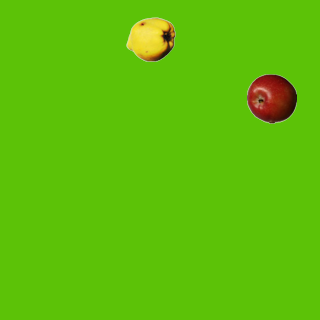Apple Braeburn: (246, 73, 296, 123)
Quince: (125, 14, 175, 64)
